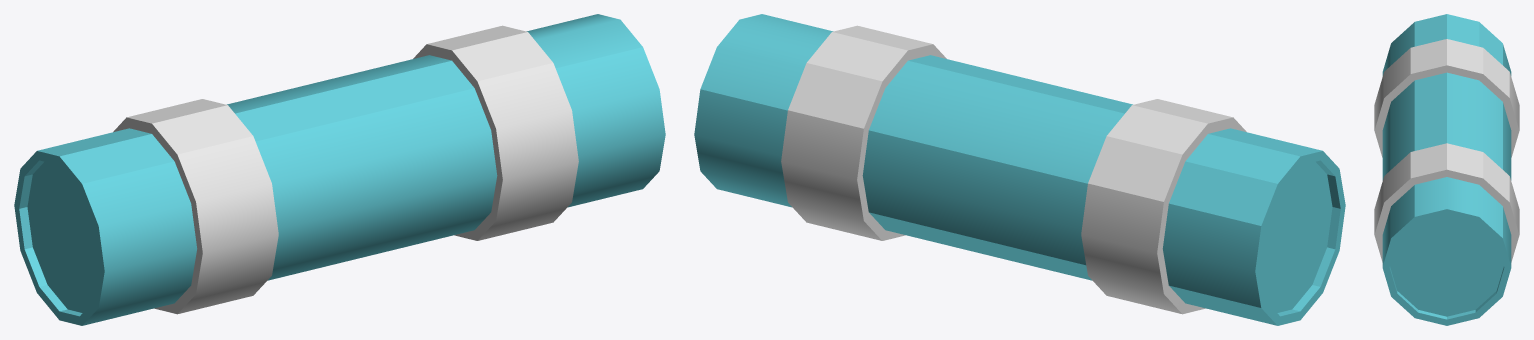
File: Tile9.fbx
The picture shows the model from 3 angles, left to right: view 1: azimuth 30°, elevation 25°; view 2: azimuth 150°, elevation 25°; view 3: azimuth 270°, elevation 25°; orthographic projection. The views are drawn at different scales.
Visible parts, largest first — view 1: m9; view 2: m9; view 3: m9.
Part boxes in pixels (x1,y1,x2,y2): m9: (14,14,665,325); m9: (694,14,1345,325); m9: (1374,14,1519,325).
Size of the model in its own units: 17.86 by 5.61 by 5.61.
